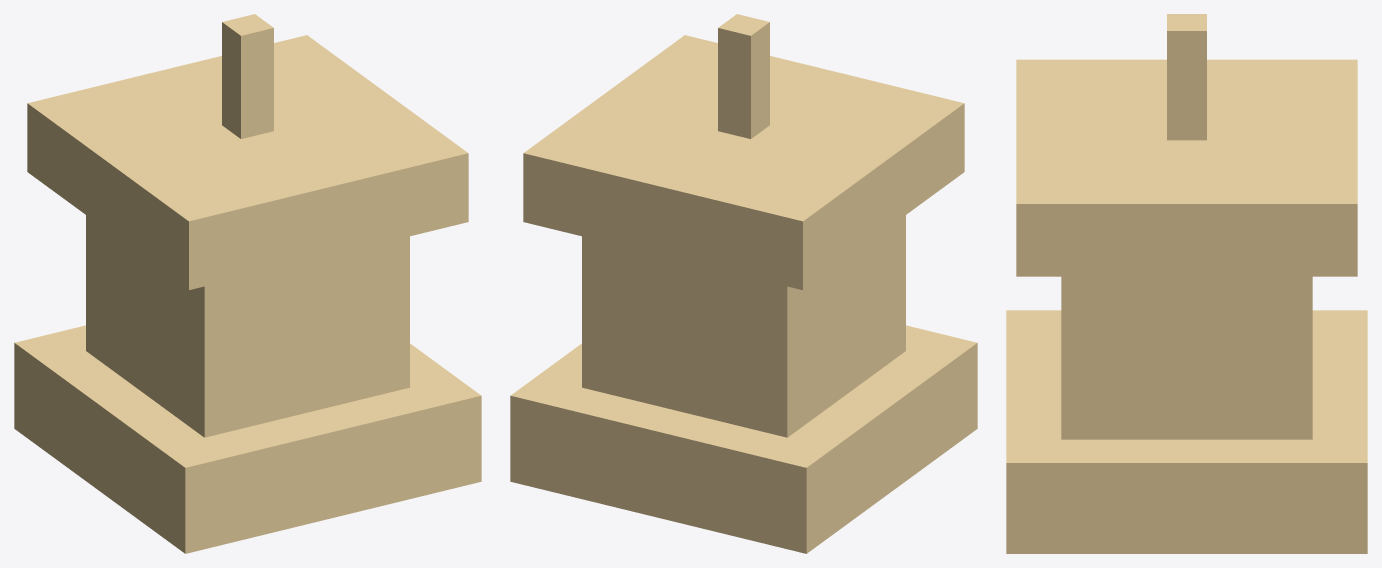
The model's file is outpost.gltf.
3 renders of one model, left to right at view 1: azimuth 30°, elevation 25°; view 2: azimuth 150°, elevation 25°; view 3: azimuth 270°, elevation 25°, orthographic. The views are drawn at different scales.
Parts seen in each view (by area): view 1: outpost; view 2: outpost; view 3: outpost.
Boxes of the visible parts, x1,y1,x2,y2 form: outpost: (14, 14, 481, 553); outpost: (510, 14, 977, 553); outpost: (1006, 14, 1367, 553).
Bounding box in the file's own units: 1.8 × 2.5 × 1.8.
